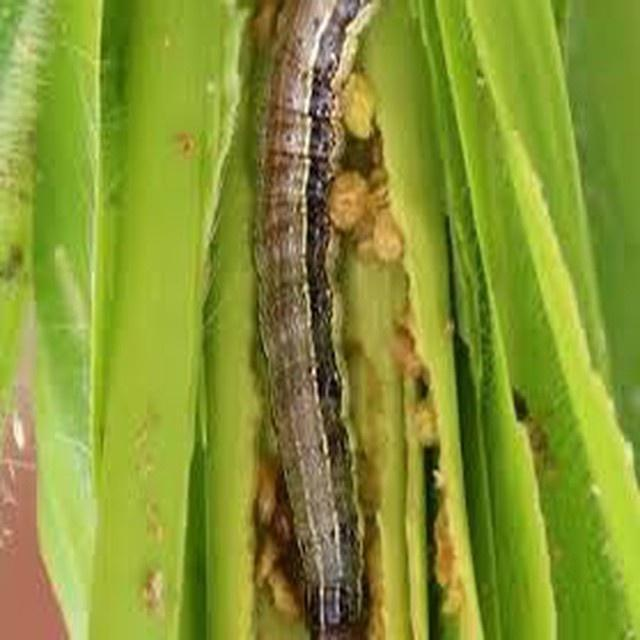gusano_cogollero: (268, 0, 376, 637)
